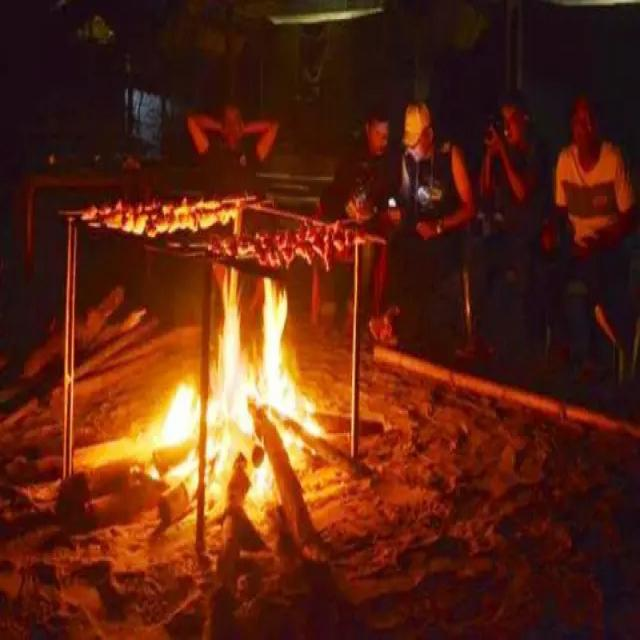fire: (543, 90, 639, 388), (391, 101, 476, 362), (475, 90, 545, 374), (255, 273, 320, 493), (328, 108, 392, 324), (208, 267, 256, 496), (84, 195, 246, 236), (160, 378, 200, 443)
